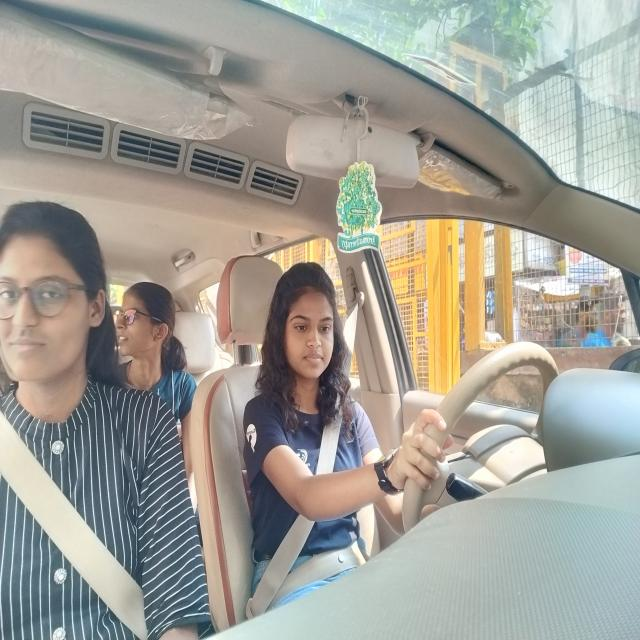person: (0, 194, 111, 417), (262, 250, 358, 414), (119, 268, 186, 394)
